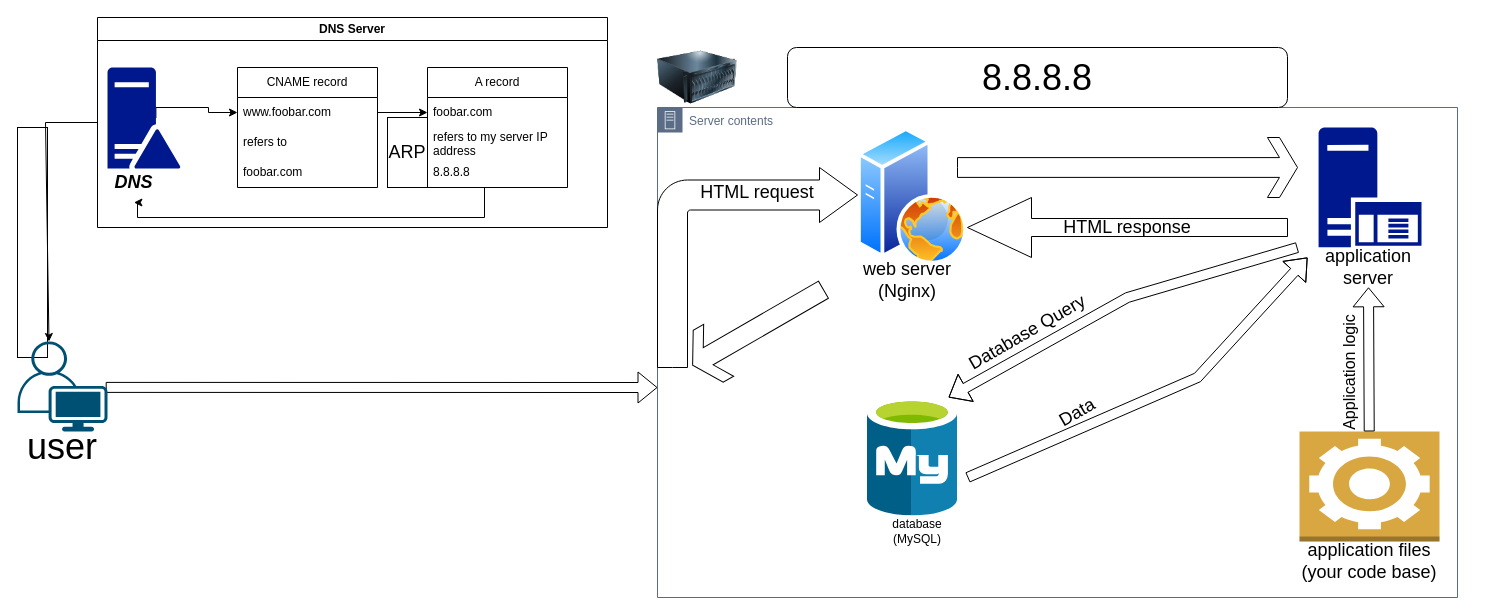
Image size: 1487x615. Some labels were removed from this diagram. Here are the shapes that lost their labels. From the top down, the centre of each, then its label:
the point at 697,77: SERVER
the point at 1127,167: Dynamic content
the point at 32,242: server's IP address to the user
the point at 757,327: HTML page
